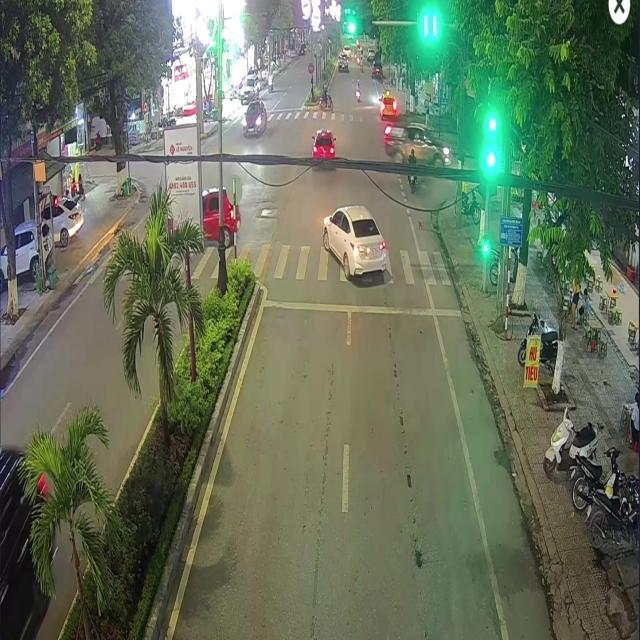car: (322, 204, 386, 277), (201, 186, 241, 248), (311, 129, 334, 162), (378, 89, 396, 117)
green_light: (346, 15, 373, 36), (486, 132, 495, 168), (483, 233, 487, 251)
stop_line: (263, 299, 460, 315)
